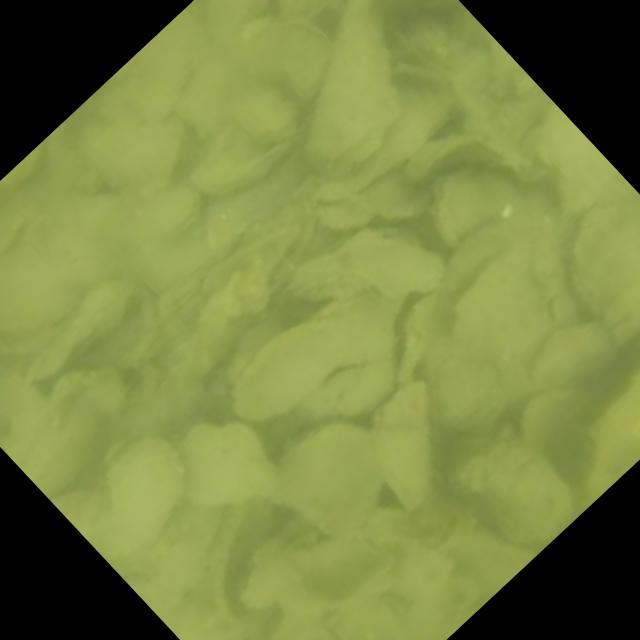Oyster- Indeterminate: (236, 295, 390, 419), (310, 79, 454, 200), (453, 236, 559, 385), (309, 0, 399, 175), (450, 426, 574, 541), (23, 281, 140, 397), (280, 421, 383, 534), (284, 233, 444, 305), (571, 194, 640, 344), (102, 434, 183, 554), (543, 101, 621, 221), (182, 128, 306, 195), (182, 419, 277, 505), (245, 19, 336, 107), (375, 380, 434, 511), (585, 369, 640, 508), (79, 129, 179, 201), (429, 162, 508, 251), (291, 359, 394, 426), (0, 262, 72, 354), (528, 324, 616, 388), (431, 357, 507, 429), (240, 540, 296, 612), (230, 87, 296, 143), (204, 0, 266, 55), (0, 188, 25, 251)
